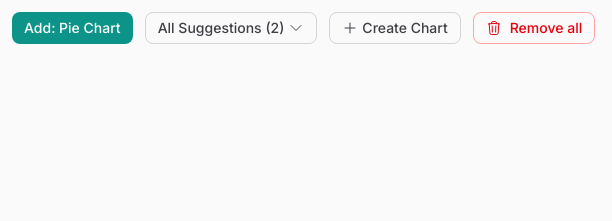
Scenario: ChartControls › Suggestions Dropdown Functionality › opens suggestions dropdown when button is clicked
Step 1. Click the button "All Suggestions (2)" → (231, 28), box [145,12,317,44]
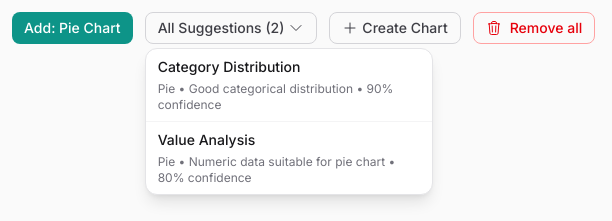
Check: the text "Category Distribution" is shown, box [158,58,300,75]
Check: the text "Value Analysis" is shown, box [158,131,255,148]
